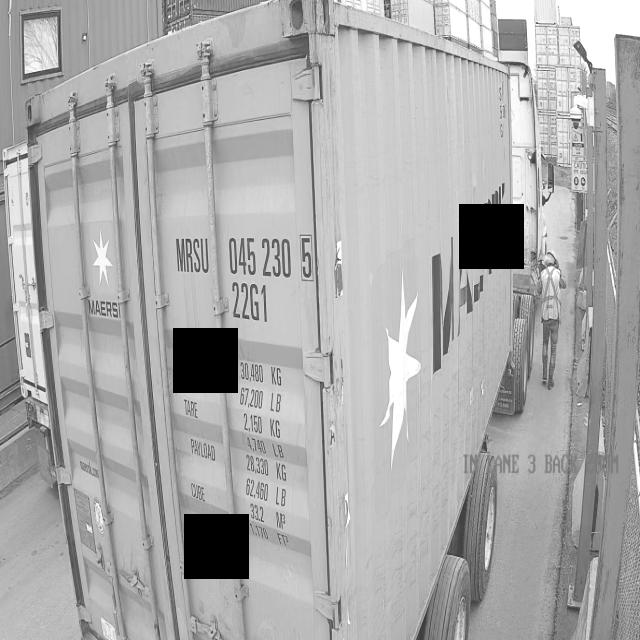container_company_logo: (79, 205, 126, 334)
container_number: (171, 232, 318, 338)
driver: (537, 251, 566, 388)
other_container_info: (182, 345, 306, 561)
truck_with_container: (25, 0, 546, 640)
